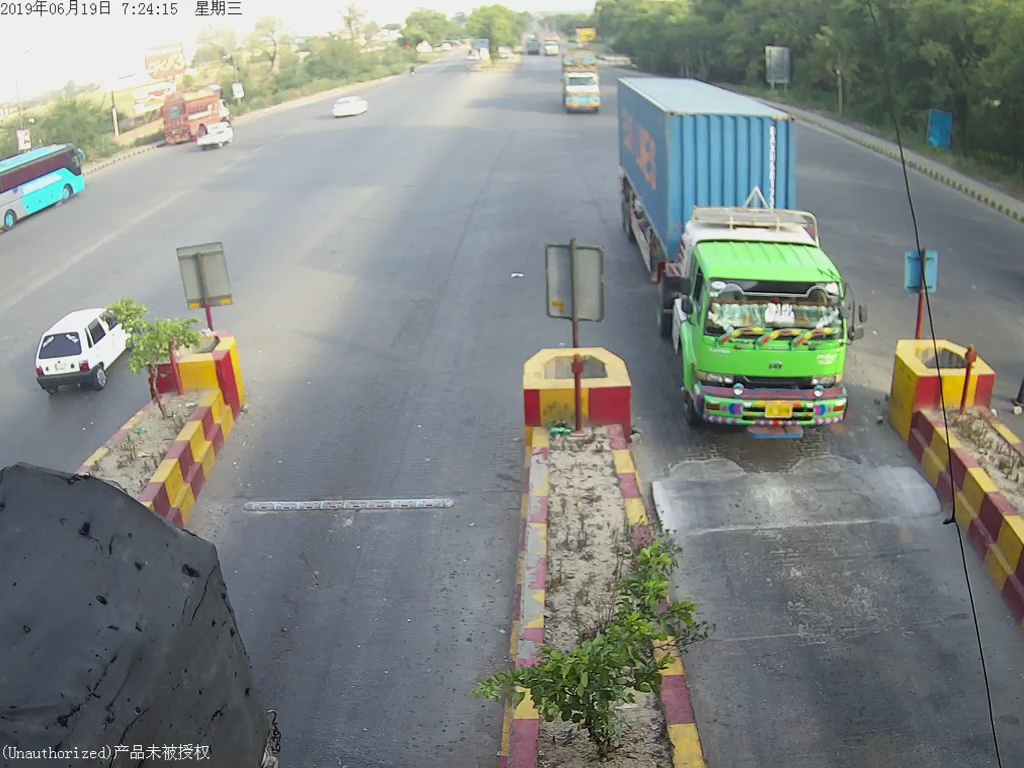Cat-5: (614, 67, 871, 445)
